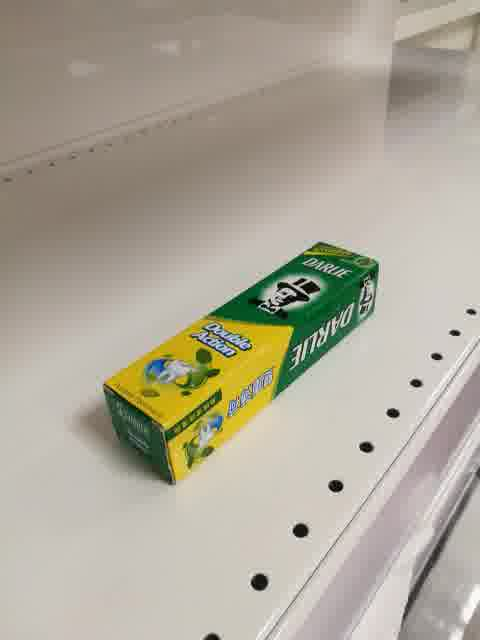toothpaste: (102, 239, 381, 487)
